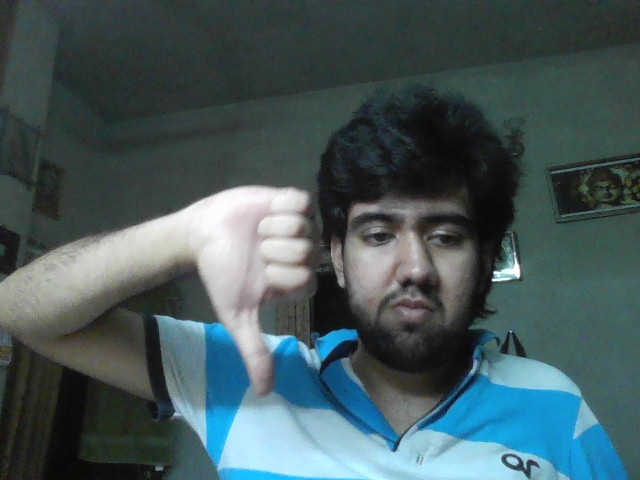NotOk: (198, 185, 316, 397)
